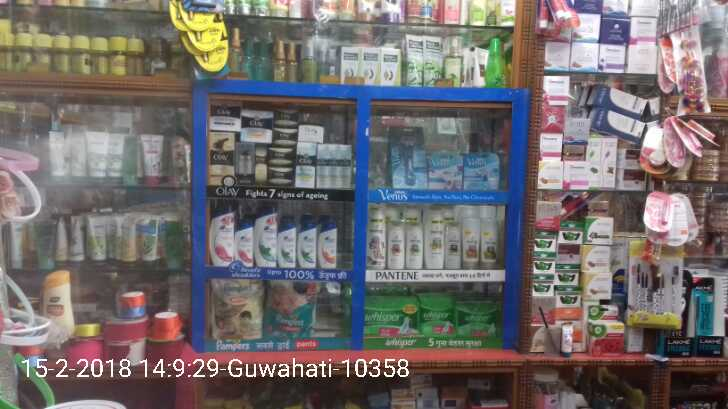venus: (394, 130, 425, 184), (461, 152, 499, 188), (429, 155, 461, 188)
